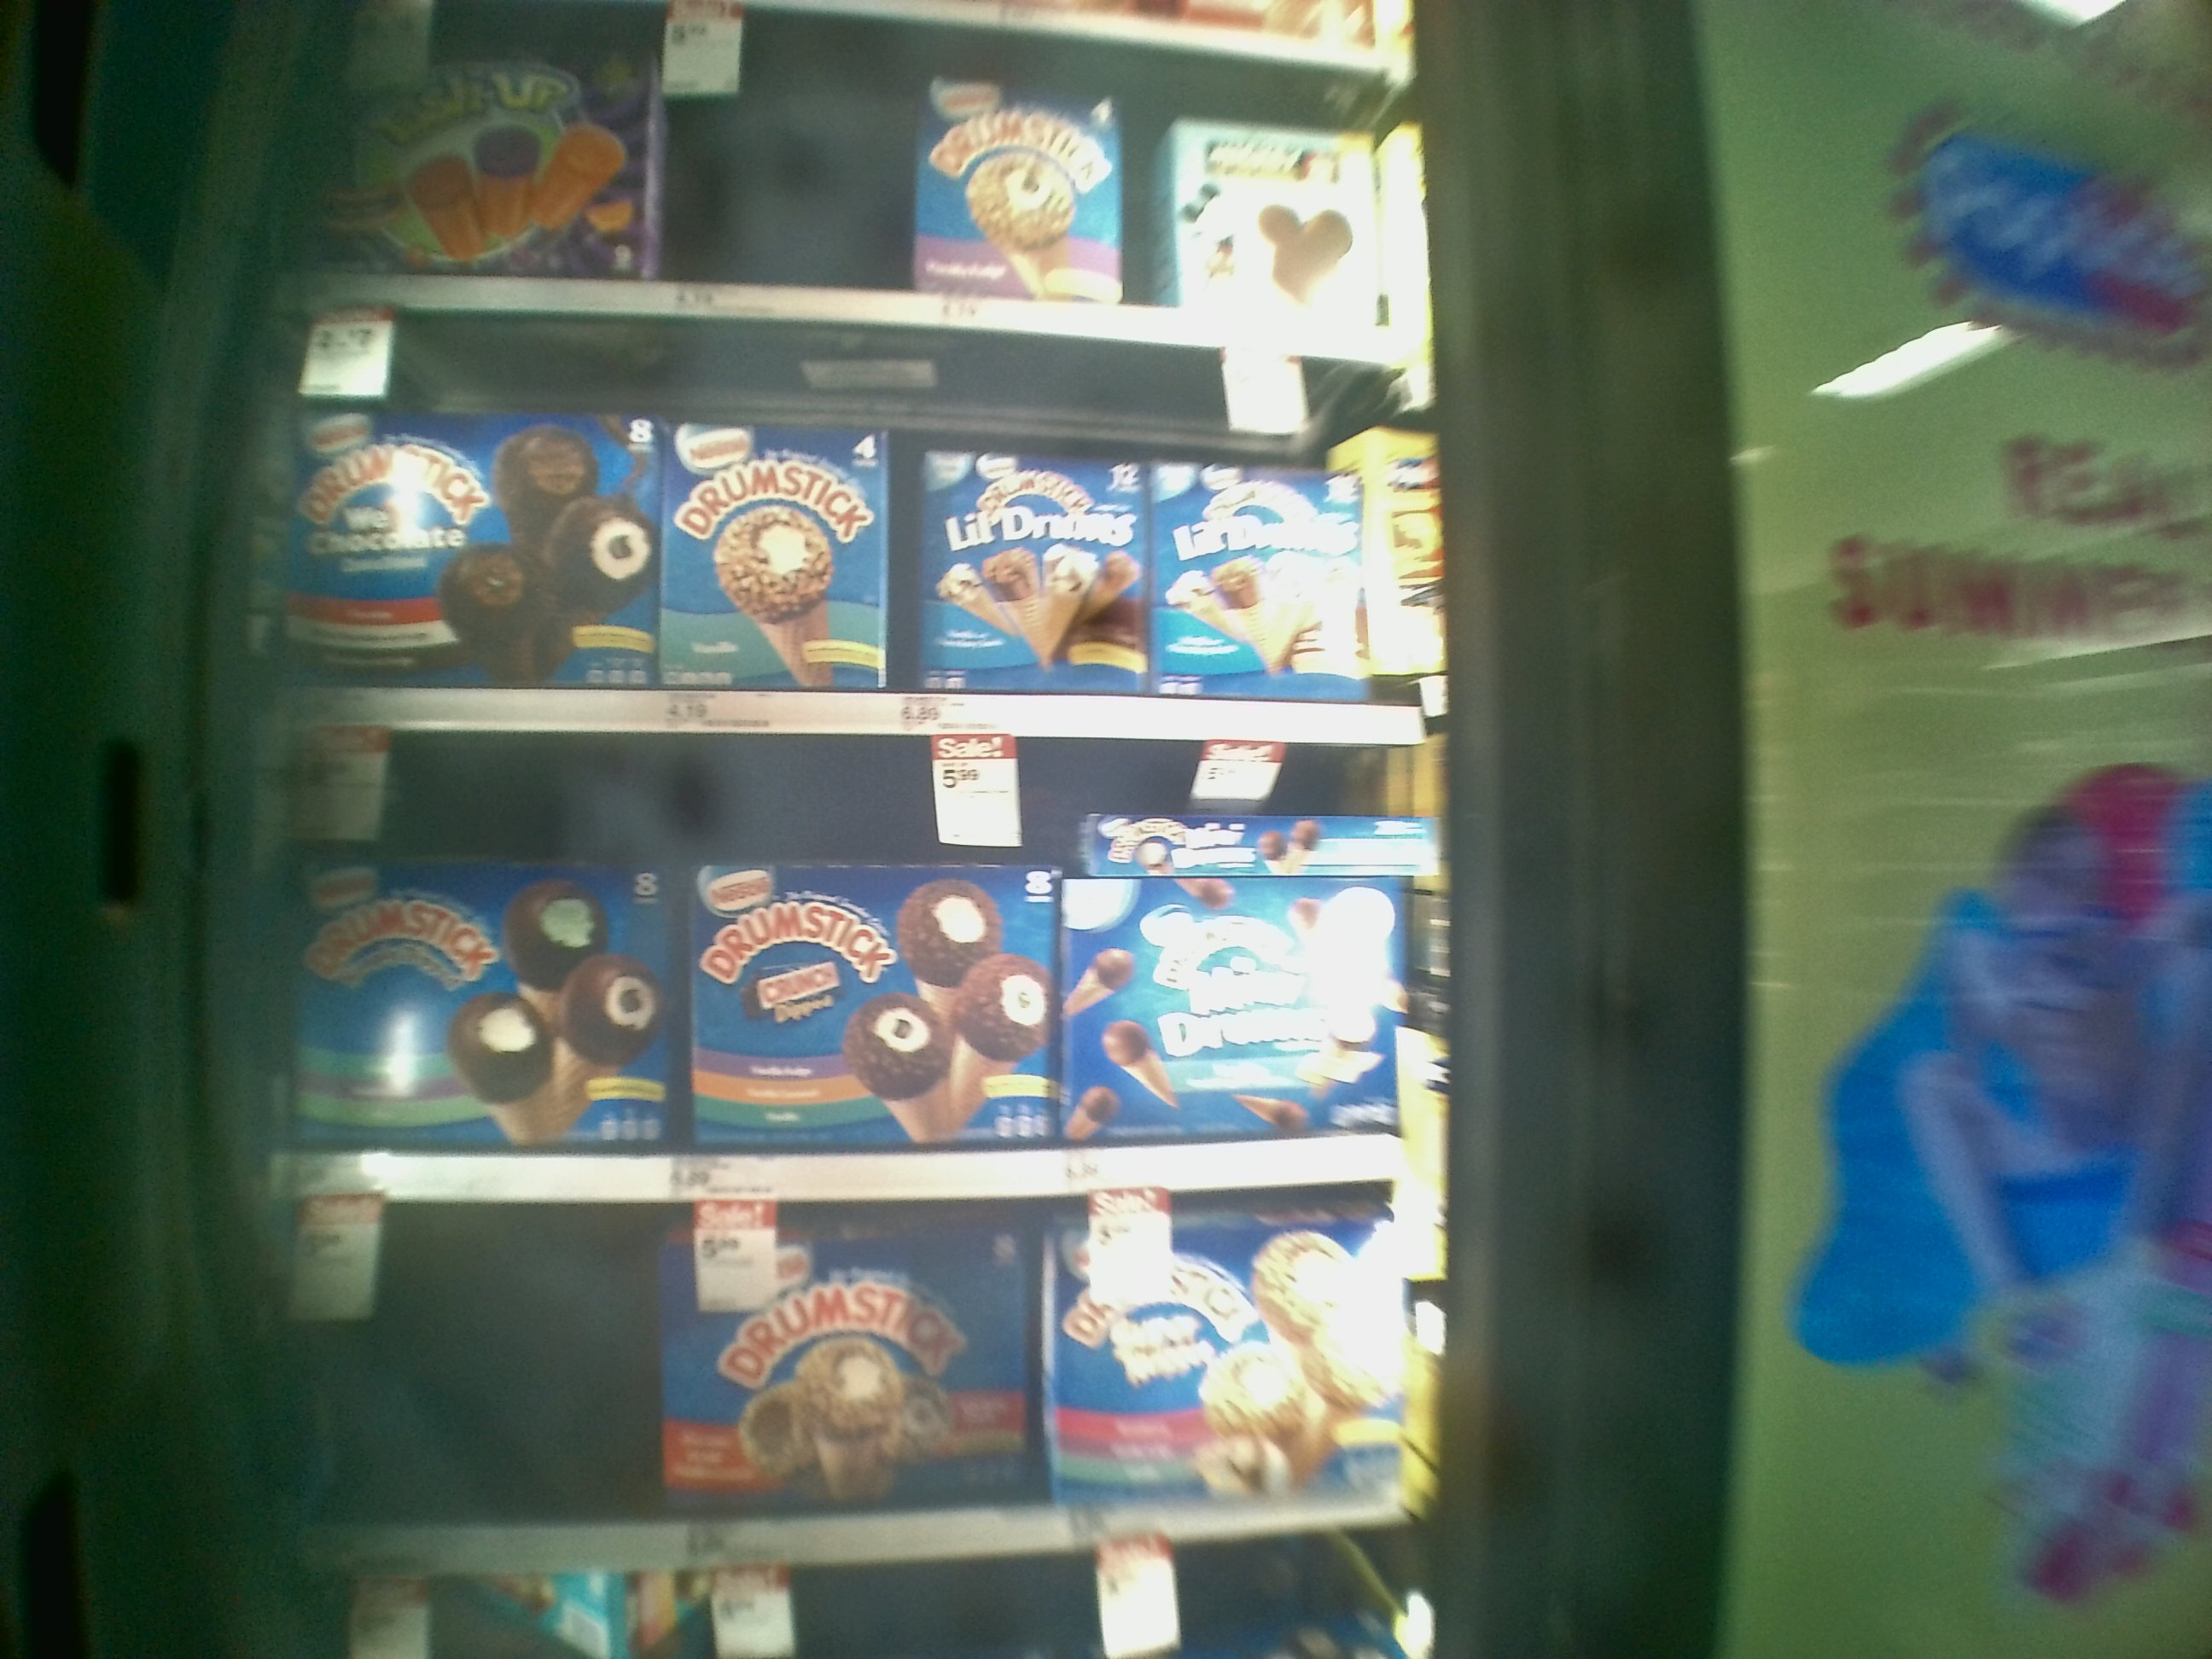shelf: (294, 734, 1413, 1180), (294, 312, 1430, 728)
